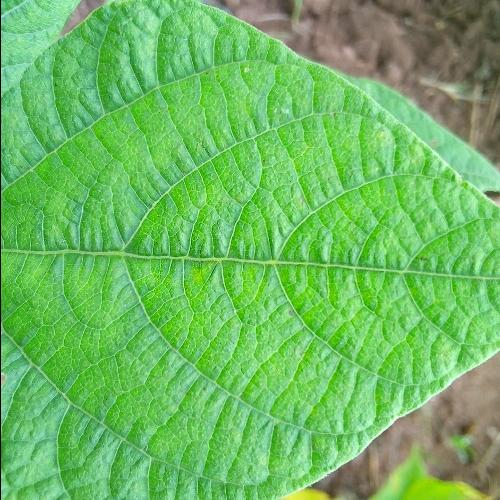sehat: (0, 50, 353, 467)
